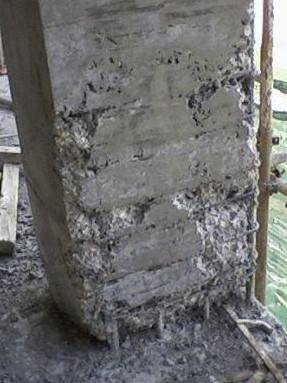Exposed reinforcement: (106, 249, 259, 321), (99, 211, 120, 354), (243, 190, 259, 304), (193, 189, 260, 215), (206, 220, 262, 249), (199, 69, 255, 93), (93, 224, 150, 246), (100, 270, 137, 284), (155, 309, 165, 341), (203, 293, 210, 322)
Spalling: (50, 1, 263, 356)
